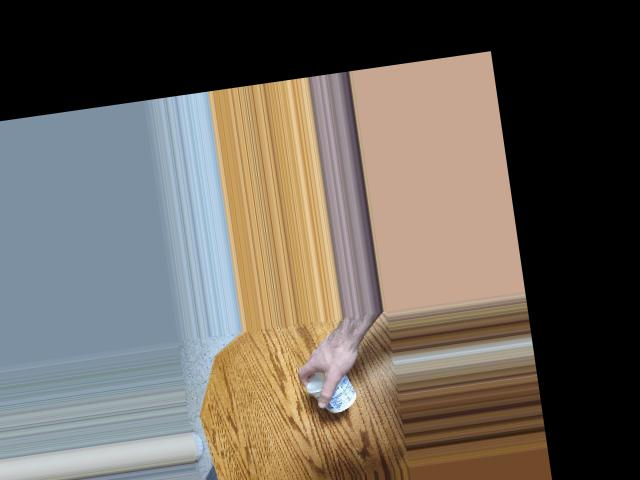cotage: (303, 358, 365, 413)
